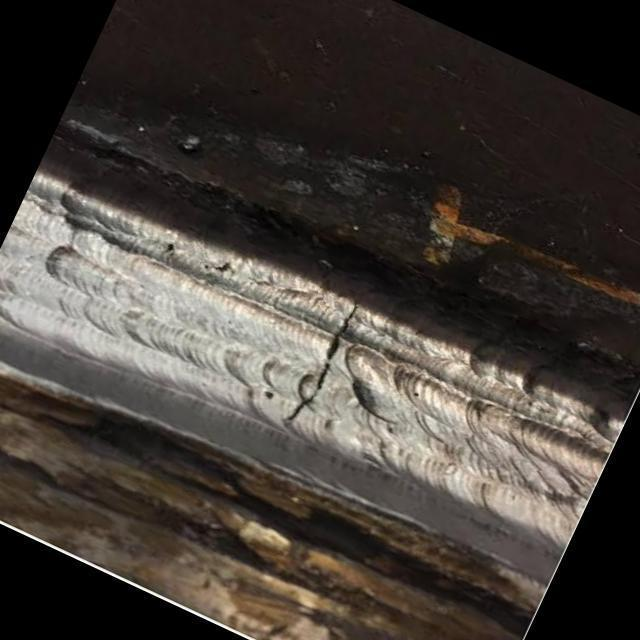defect: (285, 299, 362, 424)
